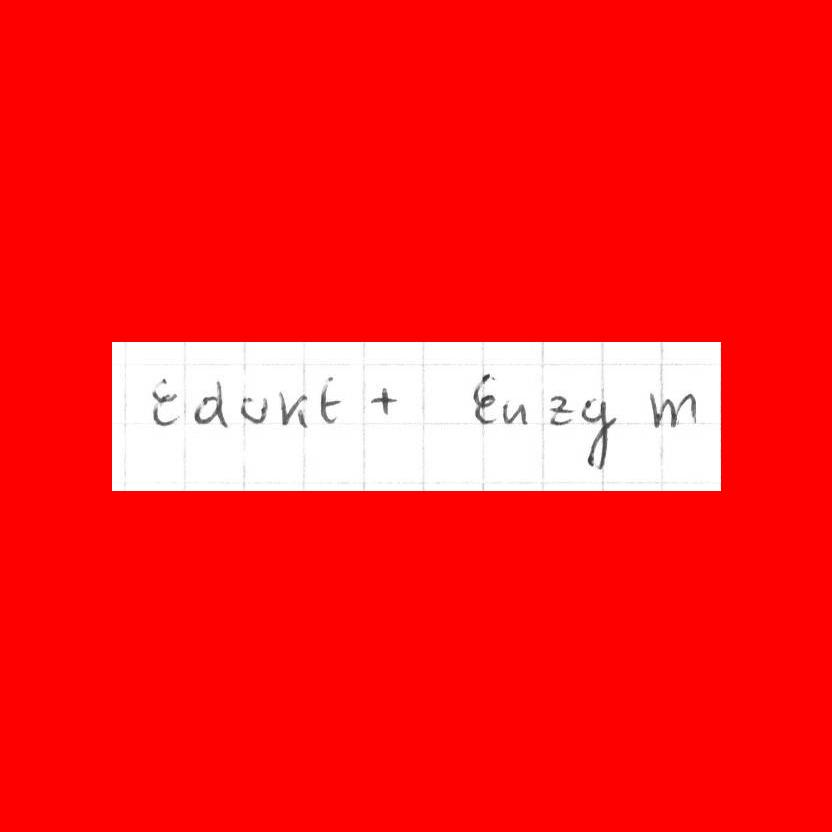Char: (580, 398, 618, 472), (649, 388, 696, 429), (193, 379, 229, 429), (147, 376, 181, 428), (317, 370, 344, 429), (471, 371, 499, 425), (275, 386, 308, 430), (367, 385, 395, 419), (239, 392, 266, 425), (546, 391, 570, 426), (501, 399, 529, 426)
